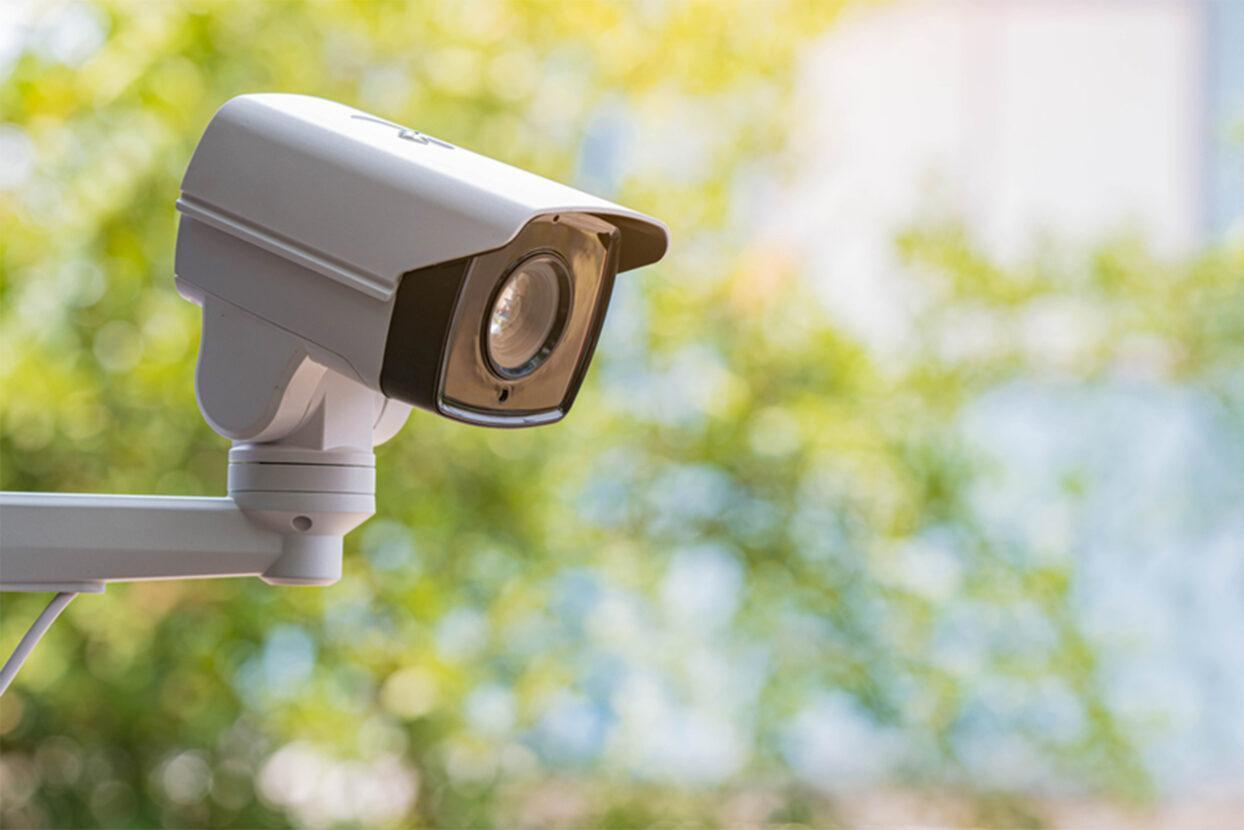tutu: (163, 73, 686, 469)
